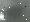person: (1, 7, 6, 20)
